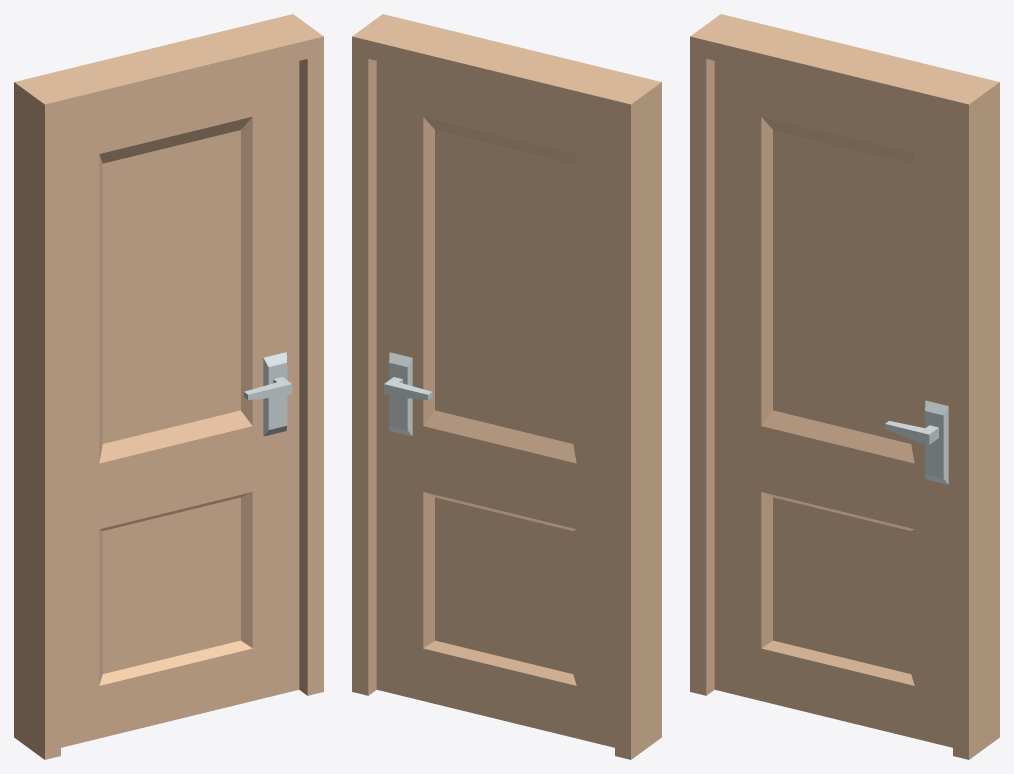
The model's file is door.glb.
3 renders of one model, left to right at view 1: azimuth 30°, elevation 25°; view 2: azimuth 150°, elevation 25°; view 3: azimuth 330°, elevation 25°, orthographic.
Parts seen in each view (by area): view 1: door, doorway(Clone); view 2: door, doorway(Clone); view 3: door, doorway(Clone).
Boxes of the visible parts, x1=… form: door: x1=61, y1=61, x2=299, y2=747; doorway(Clone): x1=14, y1=14, x2=323, y2=759; door: x1=376, y1=61, x2=614, y2=747; doorway(Clone): x1=352, y1=14, x2=661, y2=759; door: x1=714, y1=61, x2=952, y2=747; doorway(Clone): x1=690, y1=14, x2=999, y2=759.
Bounding box in the file's own units: 0.98 × 2.2 × 0.2379.
